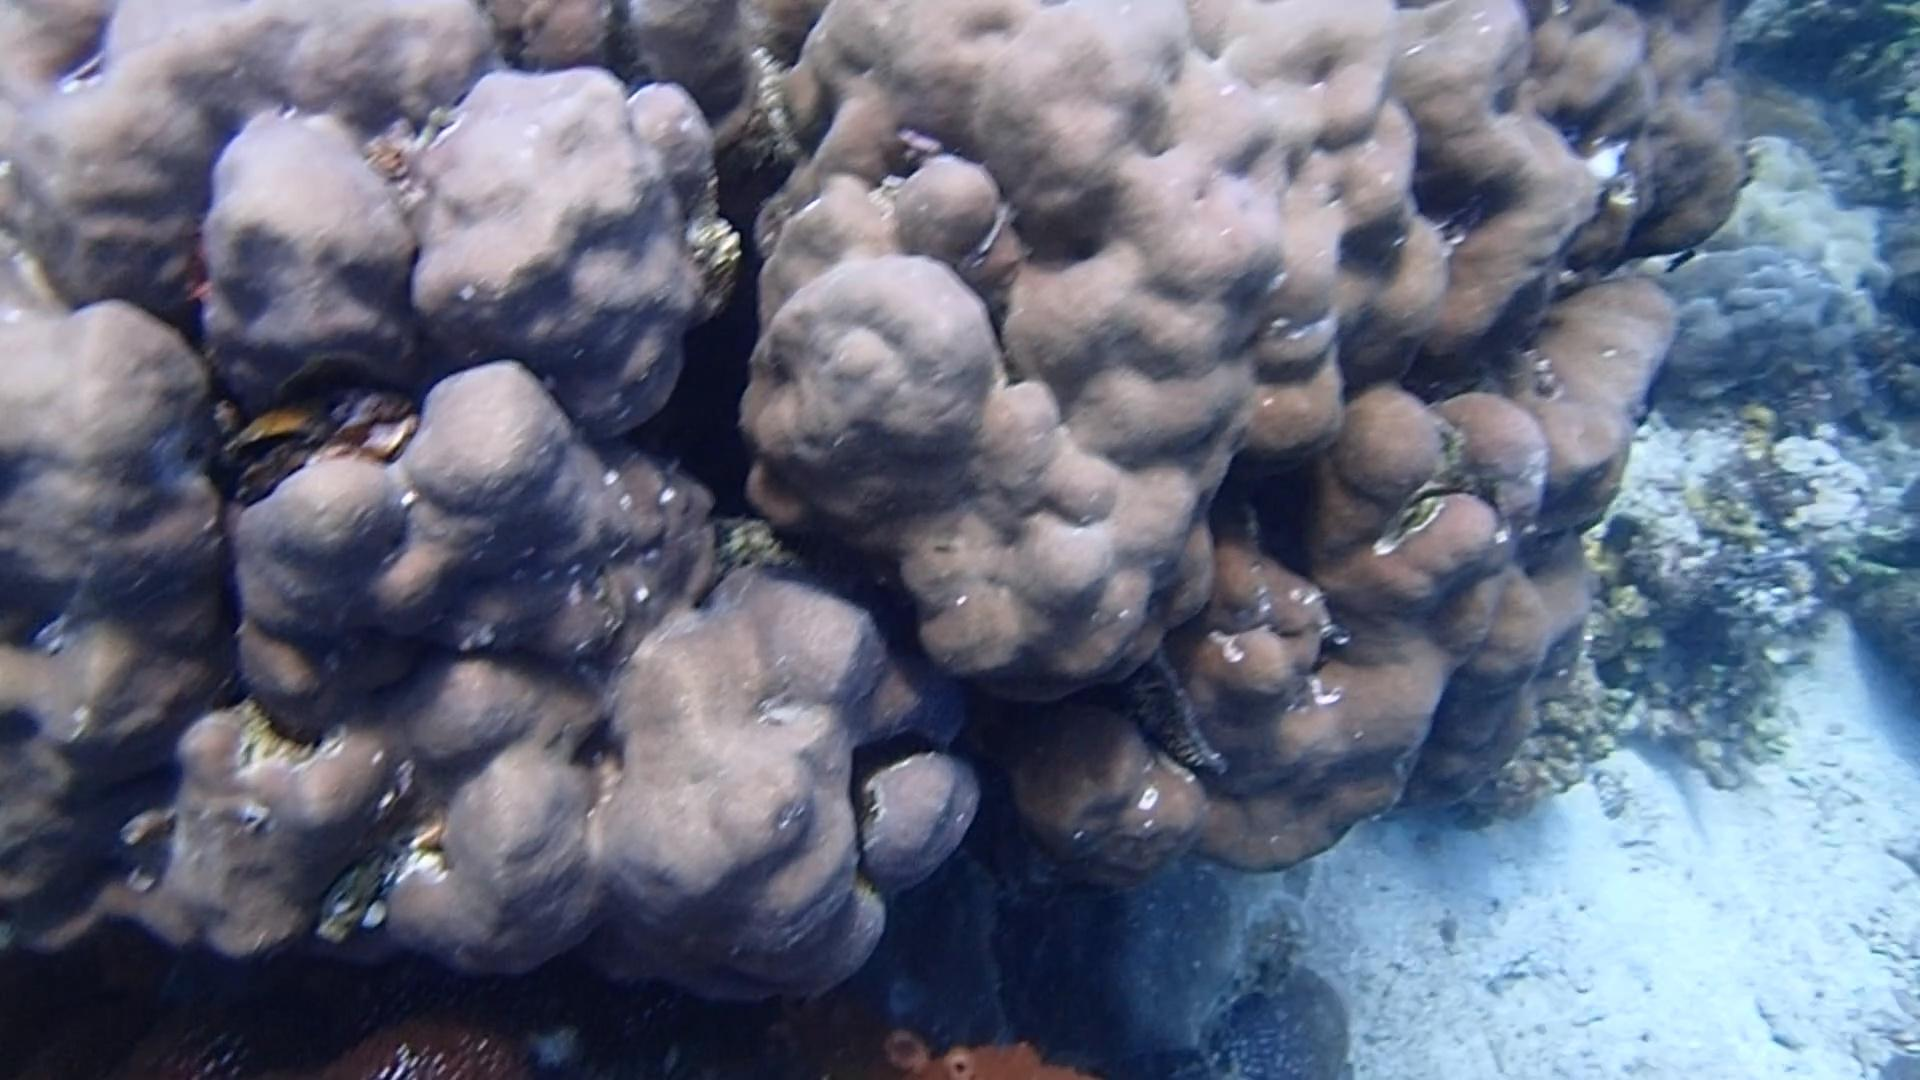Dark Fish: (1660, 240, 1701, 280)
